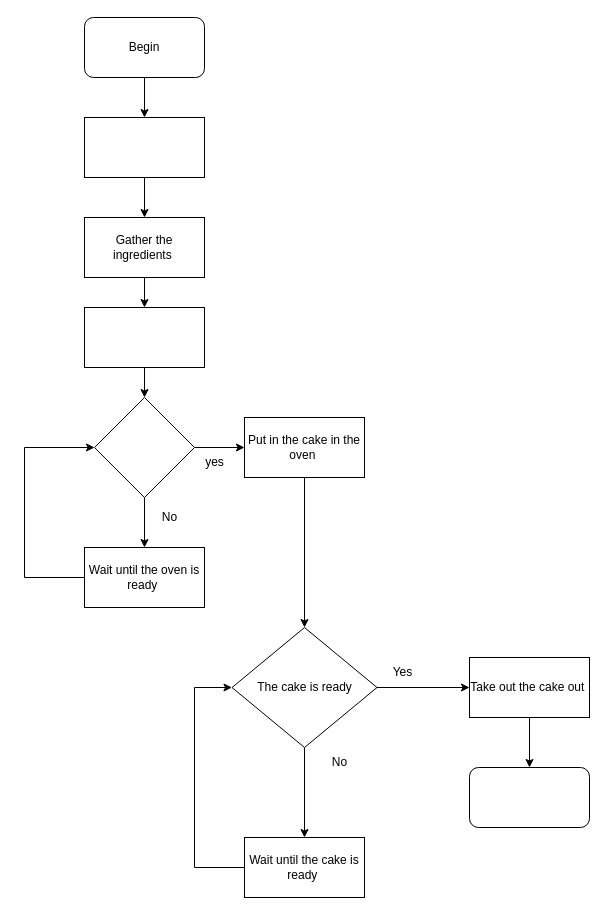
Some shapes in this 607 by 915 pixel diagram are drawn without their labels. Each missing label, with the centre of its shape:
Bake a cake: the point at 144,147
Make a dough: the point at 144,337
Oven is ready: the point at 144,447
Stop: the point at 529,797
